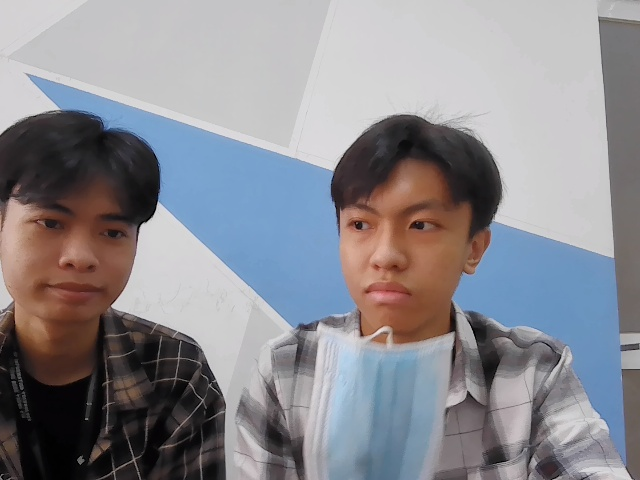human: (332, 111, 495, 341), (1, 117, 162, 320)
mask: (310, 320, 458, 480)
